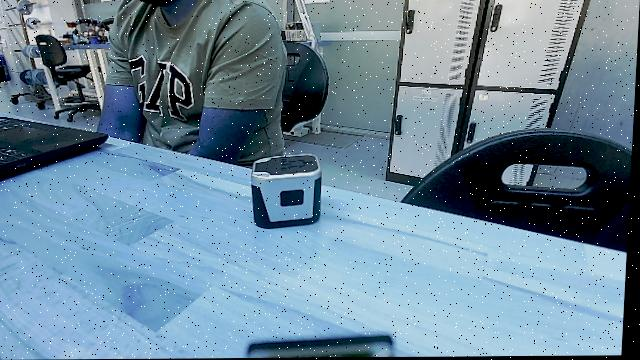adapter: (248, 154, 332, 231)
